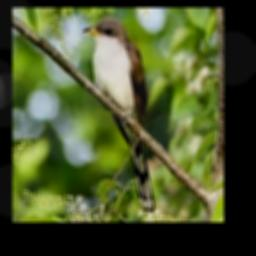Cuckoo: (83, 18, 154, 212)
